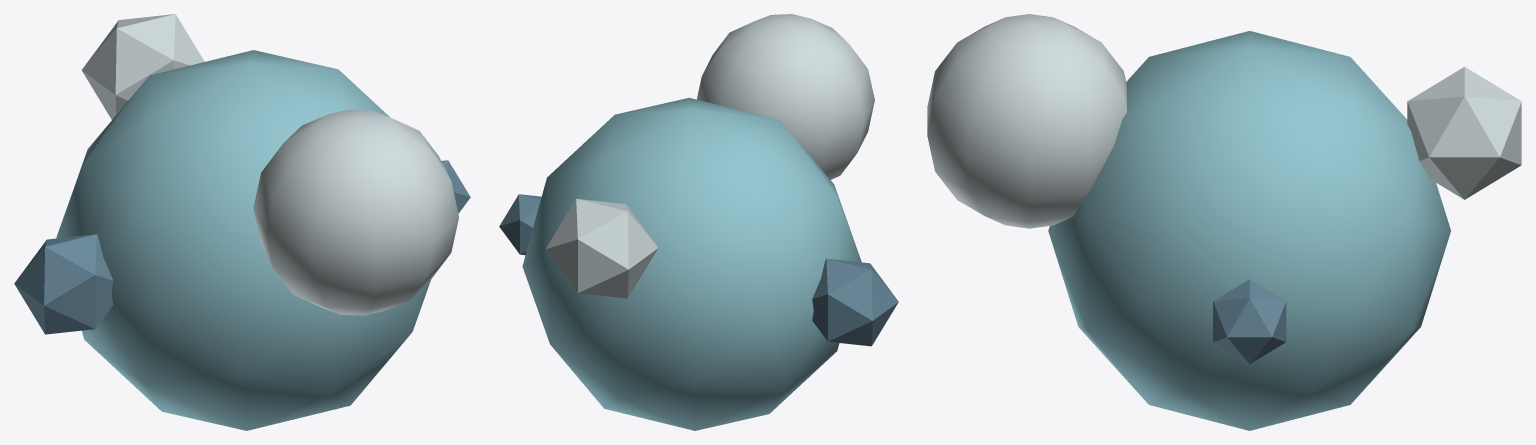
Rendered from aurora_sprite.glb.
The picture shows the model from 3 angles, left to right: view 1: azimuth 30°, elevation 25°; view 2: azimuth 150°, elevation 25°; view 3: azimuth 270°, elevation 25°; orthographic projection. The views are drawn at different scales.
Parts seen in each view (by area): view 1: body_core, head_core, orb_2, orb_3, orb_0; view 2: body_core, head_core, orb_3, orb_2, orb_0; view 3: body_core, head_core, orb_3, orb_0.
Part boxes in pixels (box(x1,y1,x2,y2)): body_core: box(56, 50, 430, 430); head_core: box(253, 109, 458, 315); orb_2: box(14, 234, 113, 334); orb_3: box(81, 14, 204, 119); orb_0: box(441, 160, 470, 213); body_core: box(522, 98, 861, 430); head_core: box(697, 14, 874, 179); orb_3: box(545, 199, 658, 298); orb_2: box(812, 258, 898, 346); orb_0: box(499, 194, 541, 255); body_core: box(1048, 31, 1450, 430); head_core: box(927, 14, 1126, 228); orb_3: box(1407, 66, 1521, 199); orb_0: box(1213, 279, 1286, 364).
Size of what is drawn, in the model's own units: 1.92 by 1.6 by 2.21.
